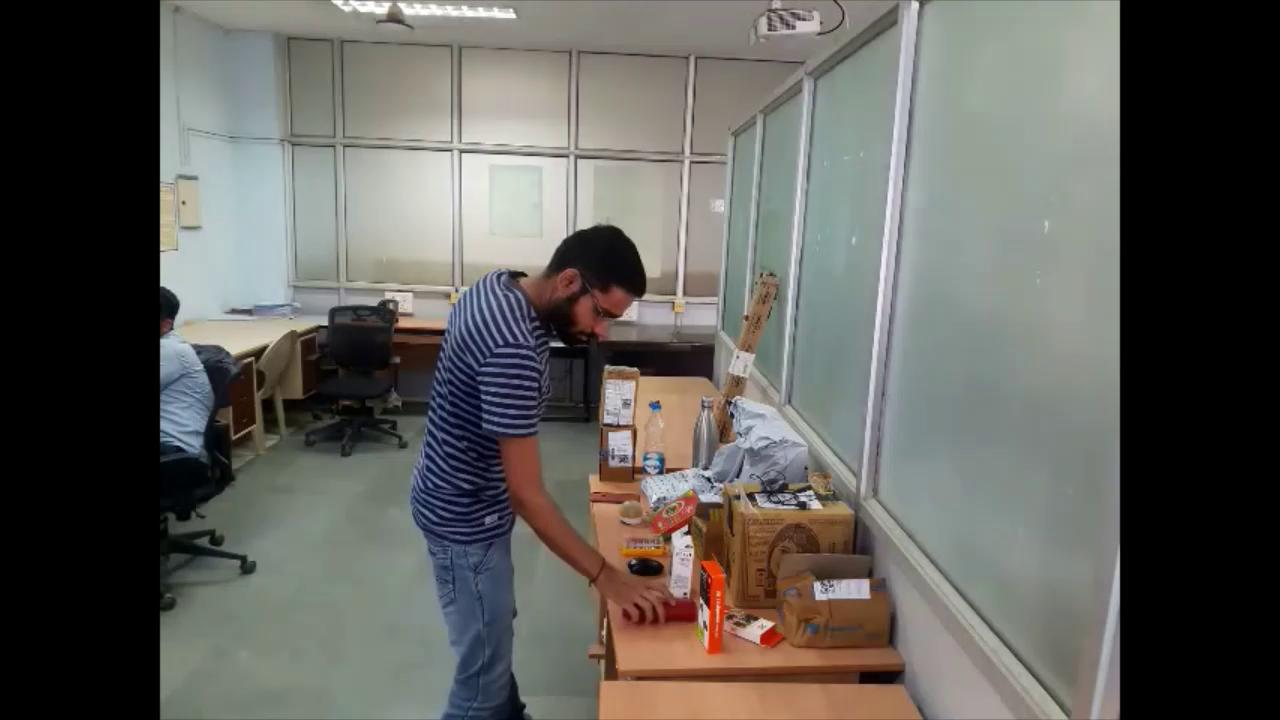Normal: (410, 223, 674, 720)
